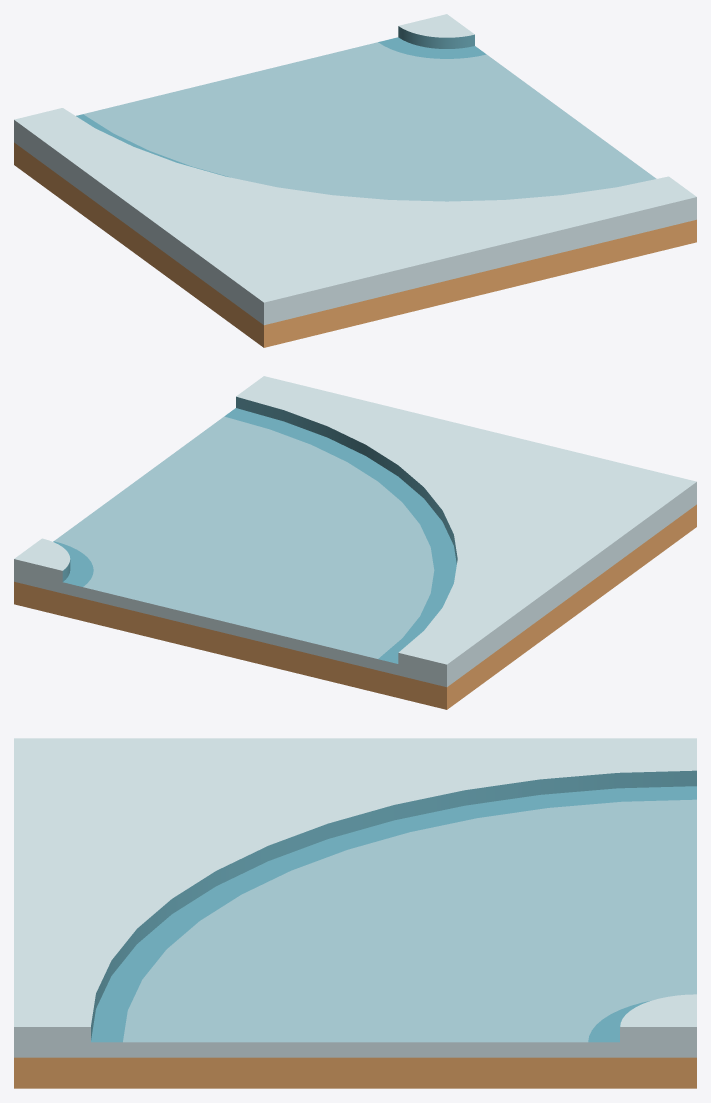
File: snow_tile_wideCorner.dae
3 renders of one model, top to bottom at view 1: azimuth 30°, elevation 25°; view 2: azimuth 150°, elevation 25°; view 3: azimuth 270°, elevation 25°, orthographic. The views are drawn at different scales.
Visible parts, largest first — view 1: snow_tile_wideCorner; view 2: snow_tile_wideCorner; view 3: snow_tile_wideCorner.
Part boxes in pixels (<box>): snow_tile_wideCorner: <box>14,14,696,347</box>; snow_tile_wideCorner: <box>14,376,696,709</box>; snow_tile_wideCorner: <box>14,738,696,1088</box>.
Size of the model in its own units: 2 by 0.2 by 2.
